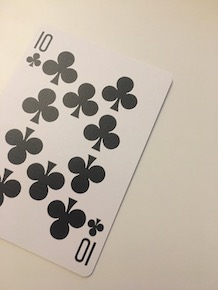TenOfClubs: (1, 24, 180, 278)
